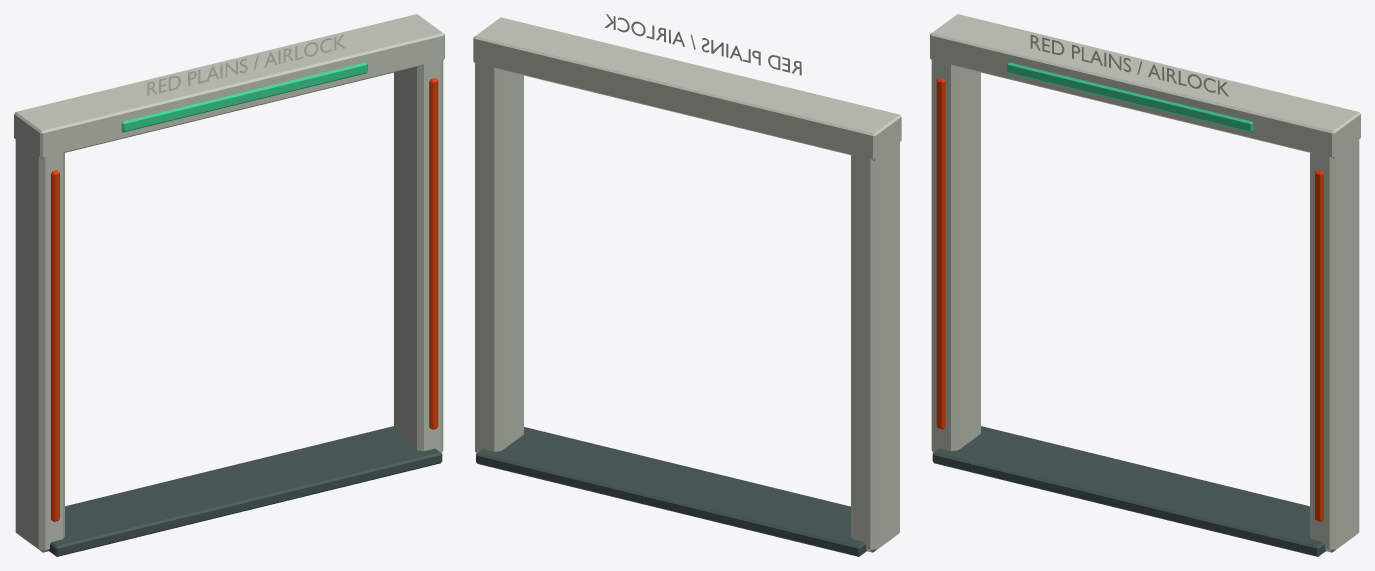
File: SM_MP_Door_Frame.fbx
3 views of the same model, side by side, from view 1: azimuth 30°, elevation 25°; view 2: azimuth 150°, elevation 25°; view 3: azimuth 330°, elevation 25° (orthographic).
Visible parts, largest first — view 1: SM_MP_Door_Frame; view 2: SM_MP_Door_Frame; view 3: SM_MP_Door_Frame.
Part boxes in pixels (box(x1,y1,x2,y2)): SM_MP_Door_Frame: box(14, 14, 444, 556); SM_MP_Door_Frame: box(473, 14, 901, 556); SM_MP_Door_Frame: box(930, 14, 1360, 556).
Size of the model in its own units: 460 by 80 by 488.
Materials: 1 (1 with a texture image).
